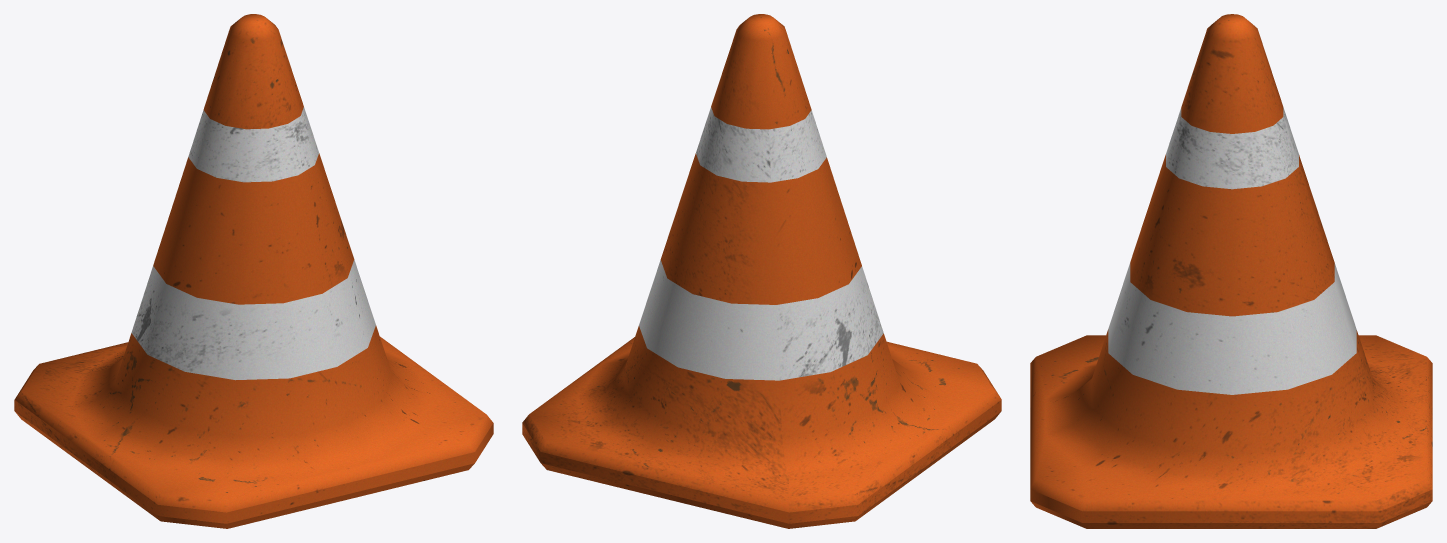
File: trafficCone.FBX
3 renders of one model, left to right at view 1: azimuth 30°, elevation 25°; view 2: azimuth 150°, elevation 25°; view 3: azimuth 270°, elevation 25°, orthographic. The views are drawn at different scales.
Visible parts, largest first — view 1: cone2; view 2: cone2; view 3: cone2.
Boxes of the visible parts, x1,y1,x2,y2 form: cone2: [14, 14, 493, 528]; cone2: [522, 14, 1001, 528]; cone2: [1030, 14, 1432, 528].
Size of the model in its own units: 29.96 by 35.06 by 29.96.
